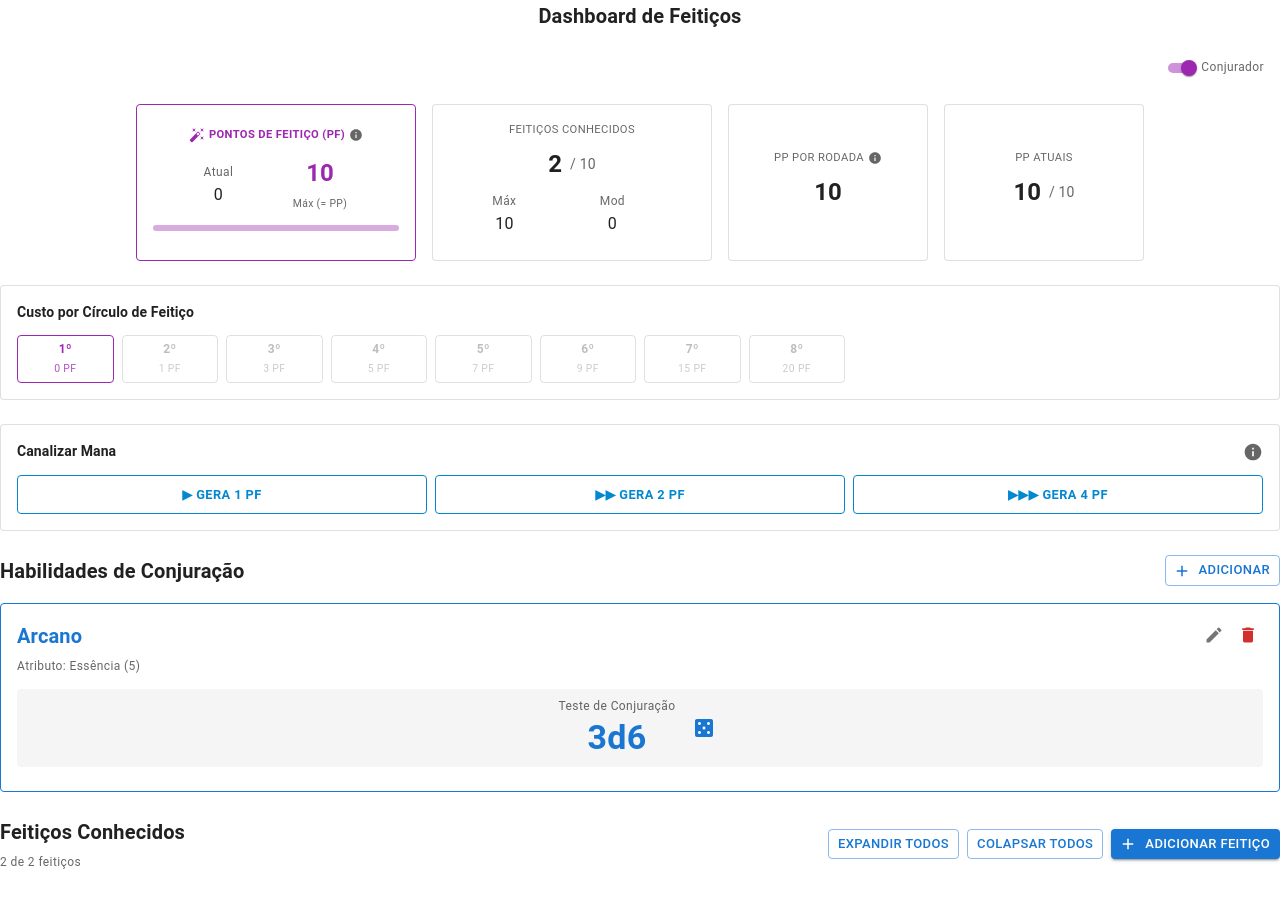
Test case: SpellsTab › should open add spell dialog when clicking add button
The image size is (1280, 897).
# O primeiro botão é o da lista de feitiços
Step 1. Click the button "Adicionar Feitiço" → (1196, 844), box left=1111, top=829, right=1279, bottom=860
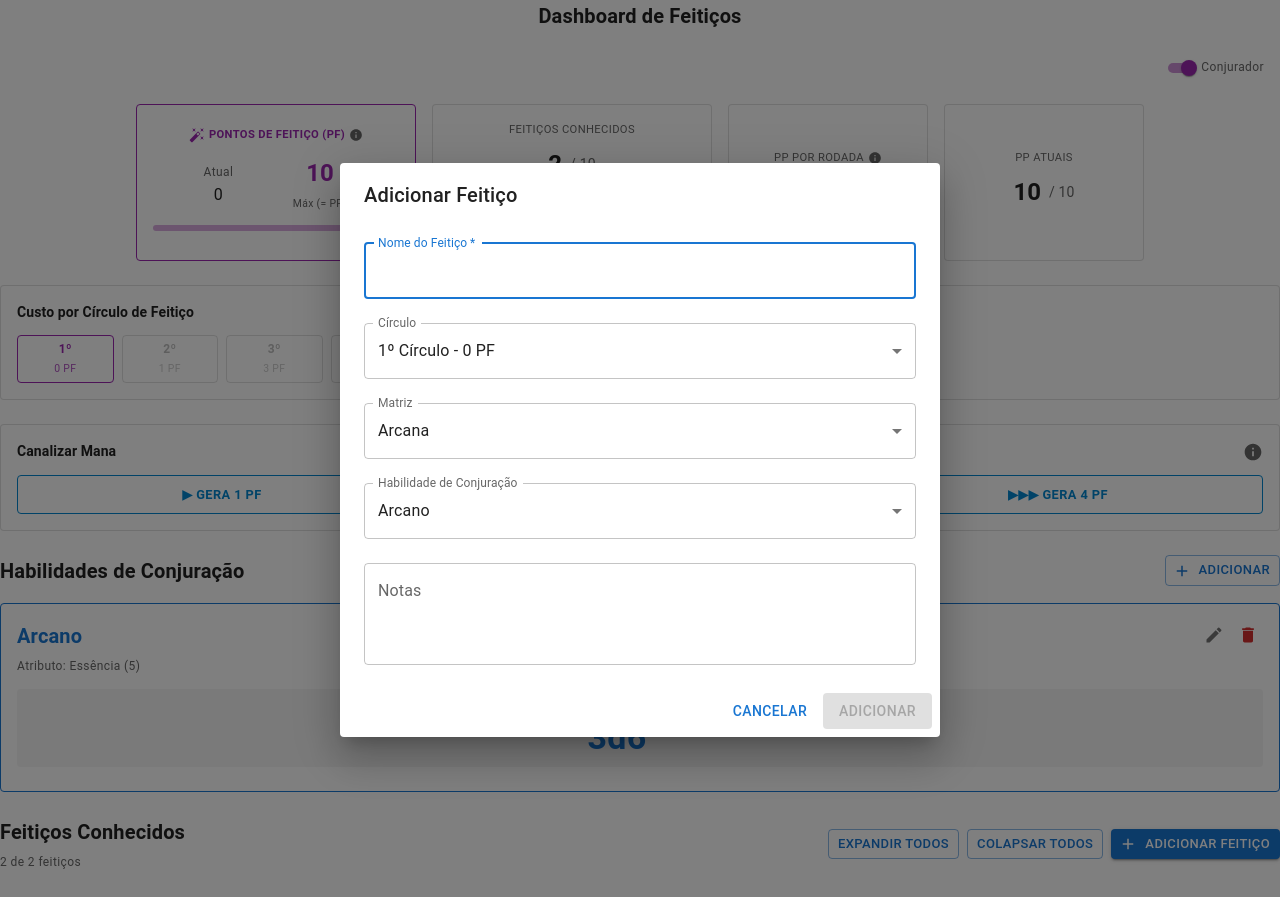
Expected: the dialog is shown, left=340, top=163, right=940, bottom=737
Expected: the heading "Adicionar Feitiço" is shown, left=364, top=183, right=518, bottom=207
